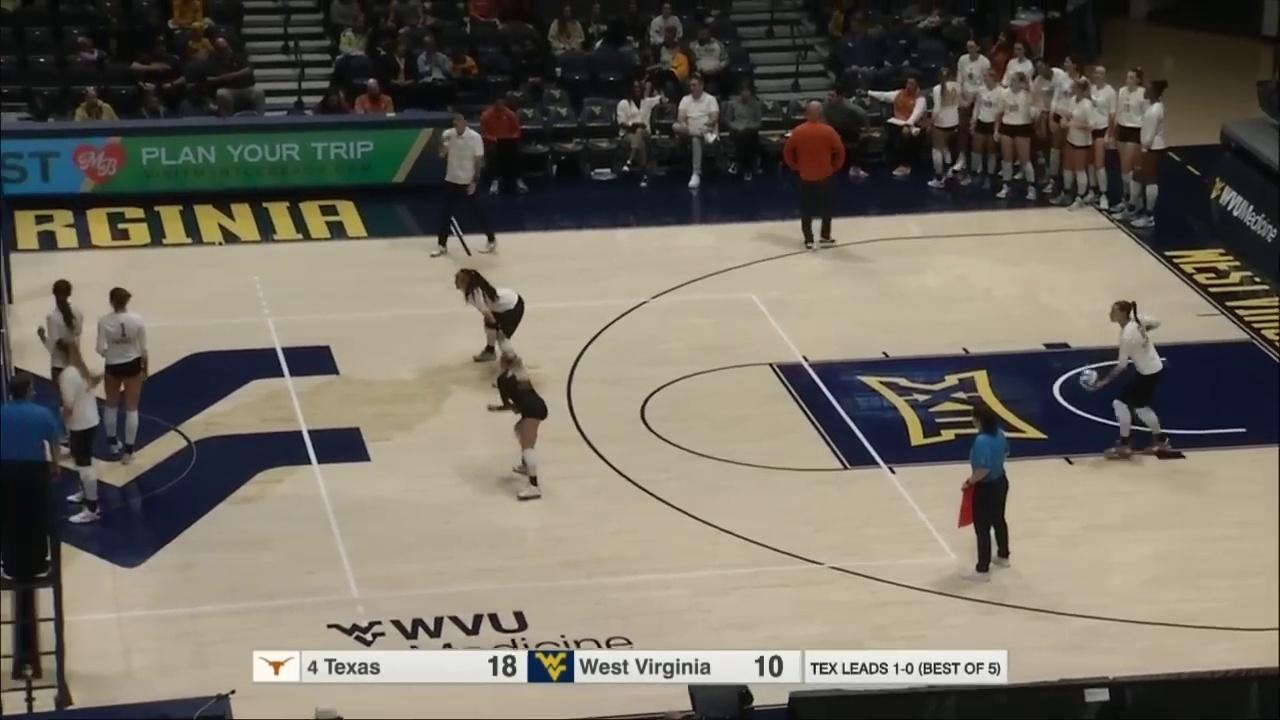player: (1098, 299, 1172, 457), (95, 286, 152, 461), (53, 339, 105, 524), (36, 282, 91, 452), (493, 356, 550, 500), (453, 270, 529, 366)
refree: (0, 369, 58, 579), (958, 405, 1018, 585)
